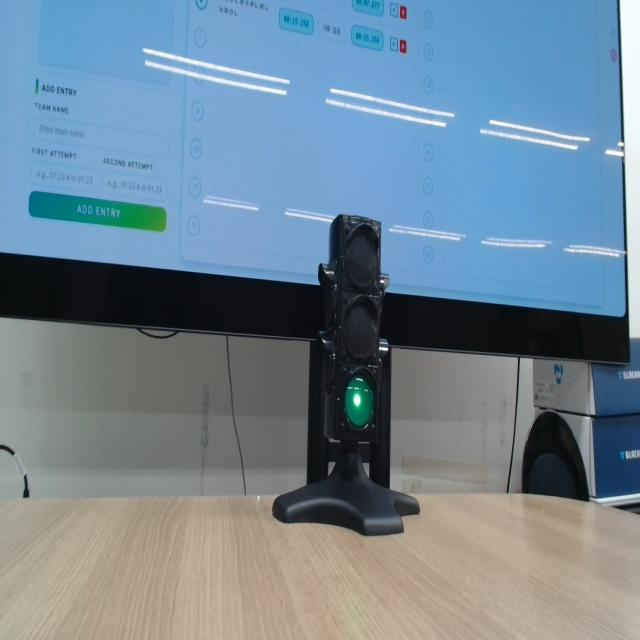green_light: (345, 376, 373, 429)
